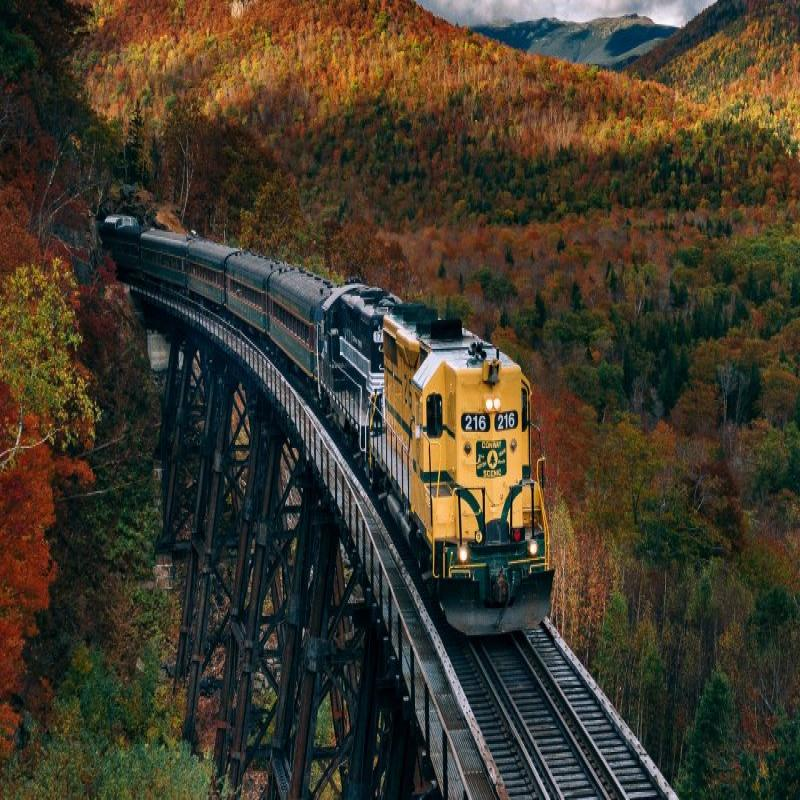train: (378, 311, 546, 640), (282, 257, 376, 447), (194, 232, 276, 340), (114, 215, 192, 303)
